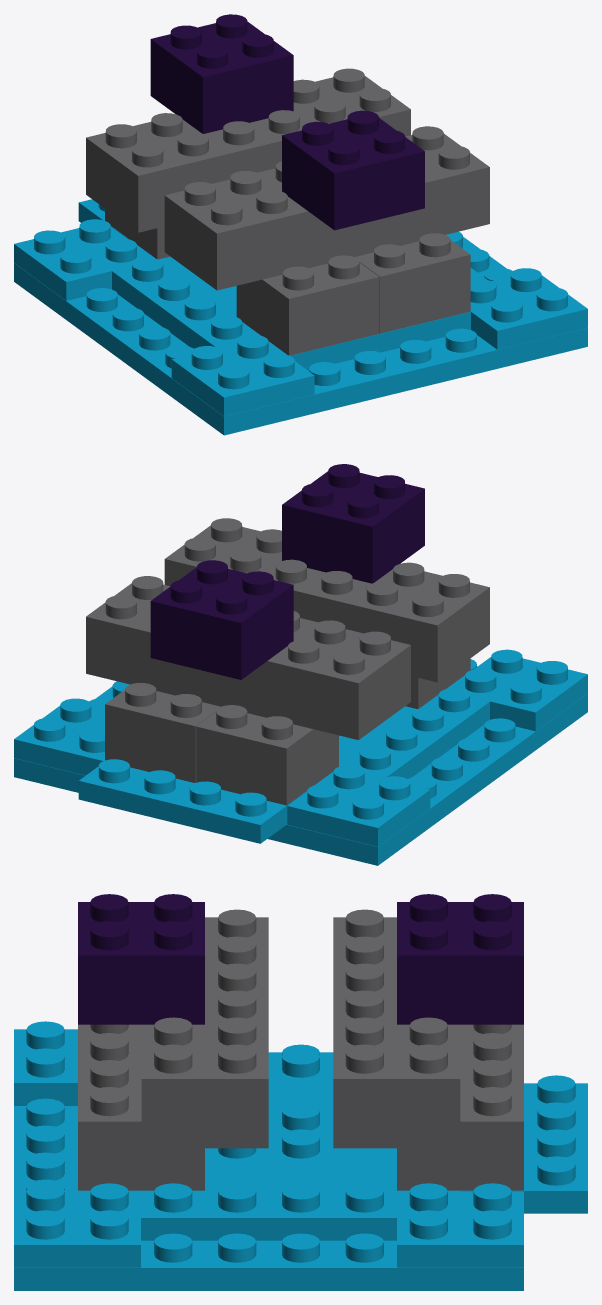
3 views of the same model, one above another, from view 1: azimuth 30°, elevation 25°; view 2: azimuth 150°, elevation 25°; view 3: azimuth 270°, elevation 25° (orthographic). The views are drawn at different scales.
Visible parts, largest first — view 1: Part_44237.16, Part_42534.1, Part_44237.17, Part_3003.19, Part_3003.18, Part_3003.15, Part_6180.7, Part_3003.14, Part_3022.4, Part_3022.3, Part_3022.5, Part_6180.6 (+1 smaller); view 2: Part_44237.17, Part_44237.16, Part_3003.18, Part_3003.19, Part_42534.1, Part_3003.10, Part_3020.9, Part_3003.13, Part_3022.5, Part_3022.4, Part_6180.6, Part_3022.2 (+3 smaller); view 3: Part_42534.1, Part_44237.16, Part_44237.17, Part_6180.6, Part_3003.18, Part_3003.19, Part_6180.7, Part_3003.13, Part_3003.14, Part_3022.3, Part_3022.2, Part_3020.9 (+4 smaller).
Part boxes in pixels (<box>): Part_44237.16: <box>164,126,489,290</box>; Part_42534.1: <box>14,231,587,435</box>; Part_44237.17: <box>86,68,410,232</box>; Part_3003.19: <box>282,110,424,230</box>; Part_3003.18: <box>150,14,293,133</box>; Part_3003.15: <box>236,255,379,355</box>; Part_6180.7: <box>138,268,495,370</box>; Part_3003.14: <box>354,233,470,333</box>; Part_3022.4: <box>171,335,314,416</box>; Part_3022.3: <box>470,268,587,349</box>; Part_3022.5: <box>14,219,154,300</box>; Part_6180.6: <box>106,238,236,346</box>; Part_44237.17: <box>86,576,410,739</box>; Part_44237.16: <box>164,518,489,682</box>; Part_3003.18: <box>150,560,293,679</box>; Part_3003.19: <box>282,464,424,583</box>; Part_42534.1: <box>14,659,587,865</box>; Part_3003.10: <box>196,705,338,805</box>; Part_3020.9: <box>78,759,306,843</box>; Part_3003.13: <box>105,682,220,782</box>; Part_3022.5: <box>287,765,430,846</box>; Part_3022.4: <box>447,649,587,731</box>; Part_6180.6: <box>314,706,463,795</box>; Part_3022.2: <box>14,698,104,775</box>; Part_42534.1: <box>14,1044,523,1290</box>; Part_44237.16: <box>141,909,268,1148</box>; Part_44237.17: <box>333,909,460,1148</box>; Part_6180.6: <box>205,1048,459,1240</box>; Part_3003.18: <box>397,894,523,1024</box>; Part_3003.19: <box>78,894,204,1024</box>; Part_6180.7: <box>78,1048,332,1240</box>; Part_3003.13: <box>397,1060,523,1190</box>; Part_3003.14: <box>78,1060,204,1190</box>; Part_3022.3: <box>14,1183,140,1267</box>; Part_3022.2: <box>397,1183,523,1267</box>; Part_3020.9: <box>461,1075,587,1213</box>.
Bounding box in the file's own units: 63.92 × 36.98 × 71.92.
